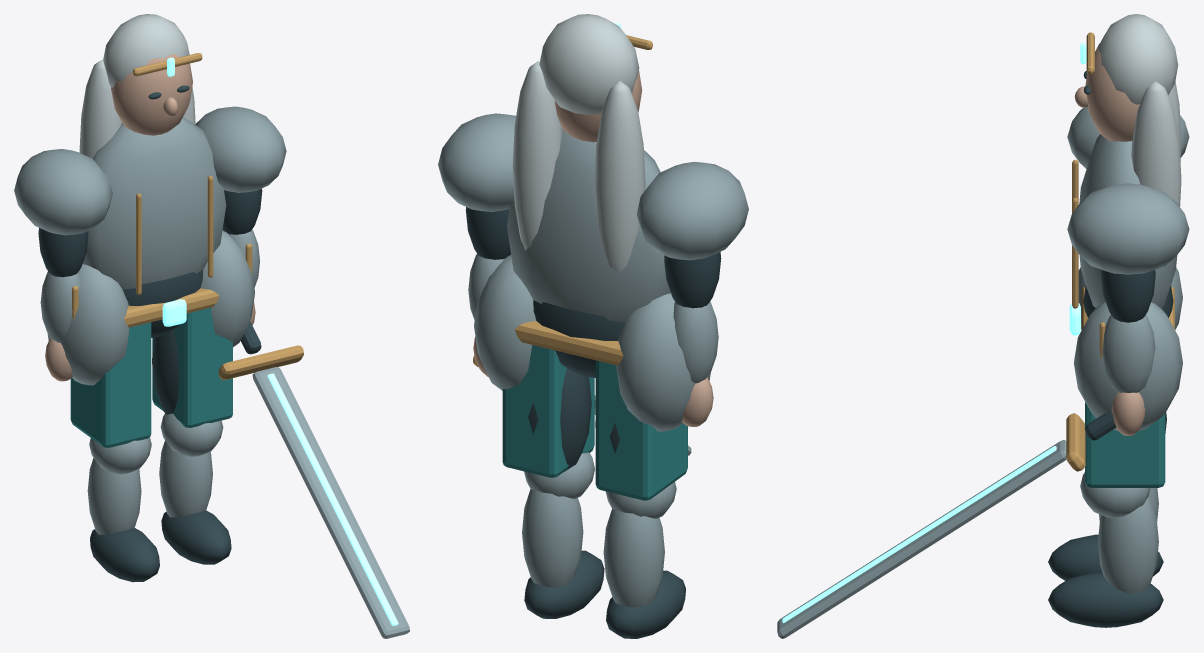
The model's file is hero.glb.
3 renders of one model, left to right at view 1: azimuth 30°, elevation 25°; view 2: azimuth 150°, elevation 25°; view 3: azimuth 270°, elevation 25°, orthographic. The views are drawn at different scales.
Parts seen in each view (by area): view 1: Breastplate, Blade, Pauldron, Tabard, Tabard.001, Hip guard, Pauldron.001, Face, Hip guard.001, Hair cap, Greave.001, Greave (+19 smaller); view 2: Breastplate, Pauldron, Tabard, Hip guard, Long hair, Hair cap, Tabard.001, Pauldron.001, Long hair.001, Hip guard.001, Greave.001, Greave (+13 smaller); view 3: Pauldron.001, Hip guard.001, Blade, Hair cap, Tabard.001, Greave.001, Long hair.001, Boot.001, Breastplate, Bracer.001, Face, Upper arm.001 (+7 smaller).
Part boxes in pixels (left/top/right/bottom): Breastplate: left=82, top=117, right=226, bottom=289; Blade: left=252, top=367, right=409, bottom=638; Pauldron: left=14, top=149, right=112, bottom=235; Tabard: left=70, top=322, right=151, bottom=447; Tabard.001: left=152, top=307, right=232, bottom=427; Hip guard: left=47, top=264, right=129, bottom=385; Pauldron.001: left=195, top=106, right=286, bottom=192; Face: left=111, top=54, right=192, bottom=135; Hip guard.001: left=200, top=230, right=254, bottom=347; Hair cap: left=103, top=14, right=189, bottom=87; Greave.001: left=159, top=440, right=212, bottom=517; Greave: left=87, top=458, right=141, bottom=534; Breastplate: left=507, top=128, right=670, bottom=322; Pauldron: left=636, top=161, right=748, bottom=260; Tabard: left=595, top=360, right=687, bottom=500; Hip guard: left=616, top=293, right=710, bottom=431; Long hair: left=594, top=81, right=645, bottom=273; Hair cap: left=539, top=14, right=639, bottom=114; Tabard.001: left=502, top=345, right=594, bottom=477; Pauldron.001: left=438, top=113, right=515, bottom=211; Long hair.001: left=512, top=61, right=562, bottom=250; Hip guard.001: left=474, top=255, right=536, bottom=390; Greave.001: left=522, top=489, right=583, bottom=587; Greave: left=603, top=509, right=664, bottom=607; Pauldron.001: left=1067, top=183, right=1189, bottom=274; Hip guard.001: left=1074, top=302, right=1182, bottom=431; Blade: left=777, top=440, right=1066, bottom=638; Hair cap: left=1097, top=14, right=1178, bottom=104; Tabard.001: left=1085, top=402, right=1165, bottom=487; Greave.001: left=1098, top=496, right=1158, bottom=593; Long hair.001: left=1131, top=81, right=1181, bottom=206; Boot.001: left=1048, top=572, right=1163, bottom=627; Breastplate: left=1079, top=134, right=1177, bottom=307; Bracer.001: left=1102, top=315, right=1155, bottom=392; Face: left=1085, top=43, right=1139, bottom=141; Upper arm.001: left=1101, top=270, right=1155, bottom=322.
Bounding box in the file's own units: 1 × 2.01 × 1.28.
